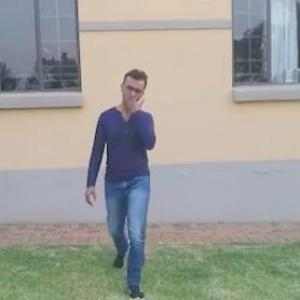follow: (98, 70, 161, 270)
